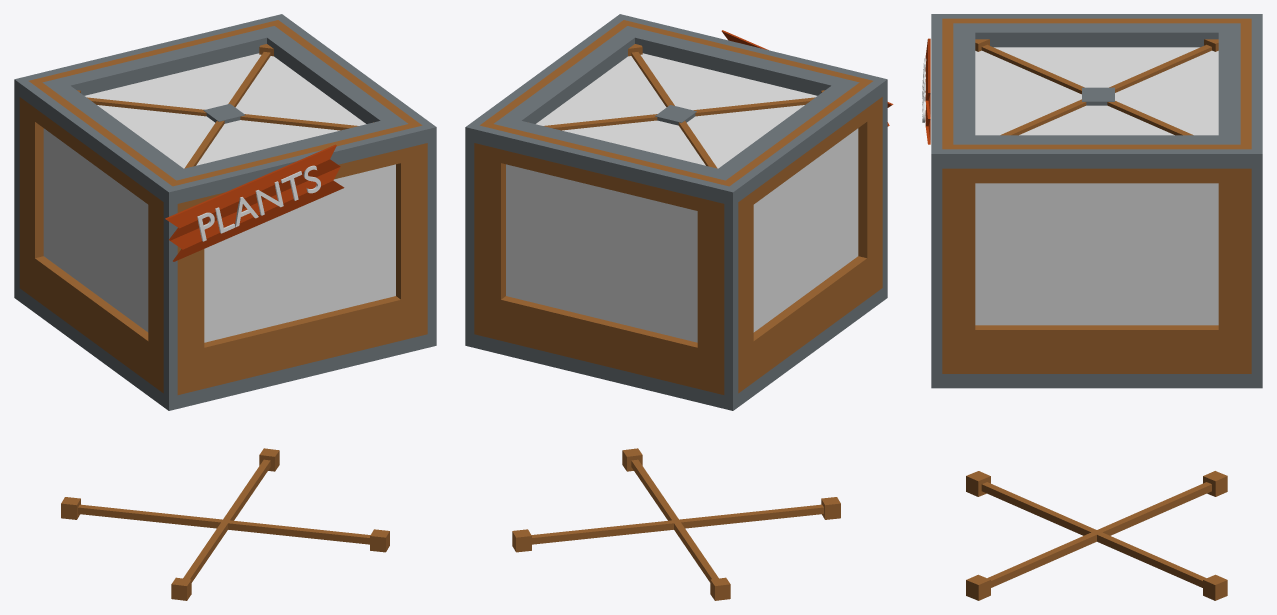
Rendered from aeroponic_1_light_upgrade.fbx.
3 renders of one model, left to right at view 1: azimuth 30°, elevation 25°; view 2: azimuth 150°, elevation 25°; view 3: azimuth 270°, elevation 25°, orthographic. The views are drawn at different scales.
Parts seen in each view (by area): view 1: Frame, wood frames center; view 2: Frame, wood frames center; view 3: Frame, wood frames center, frame intersection block.
Part boxes in pixels (x1,y1,x2,y2): Frame: (14, 14, 436, 410); wood frames center: (61, 44, 389, 600); Frame: (465, 14, 893, 410); wood frames center: (512, 44, 840, 600); Frame: (922, 14, 1262, 388); wood frames center: (966, 39, 1227, 600); frame intersection block: (1082, 87, 1114, 105).
Size of the model in its own units: 234 by 359 by 237.
